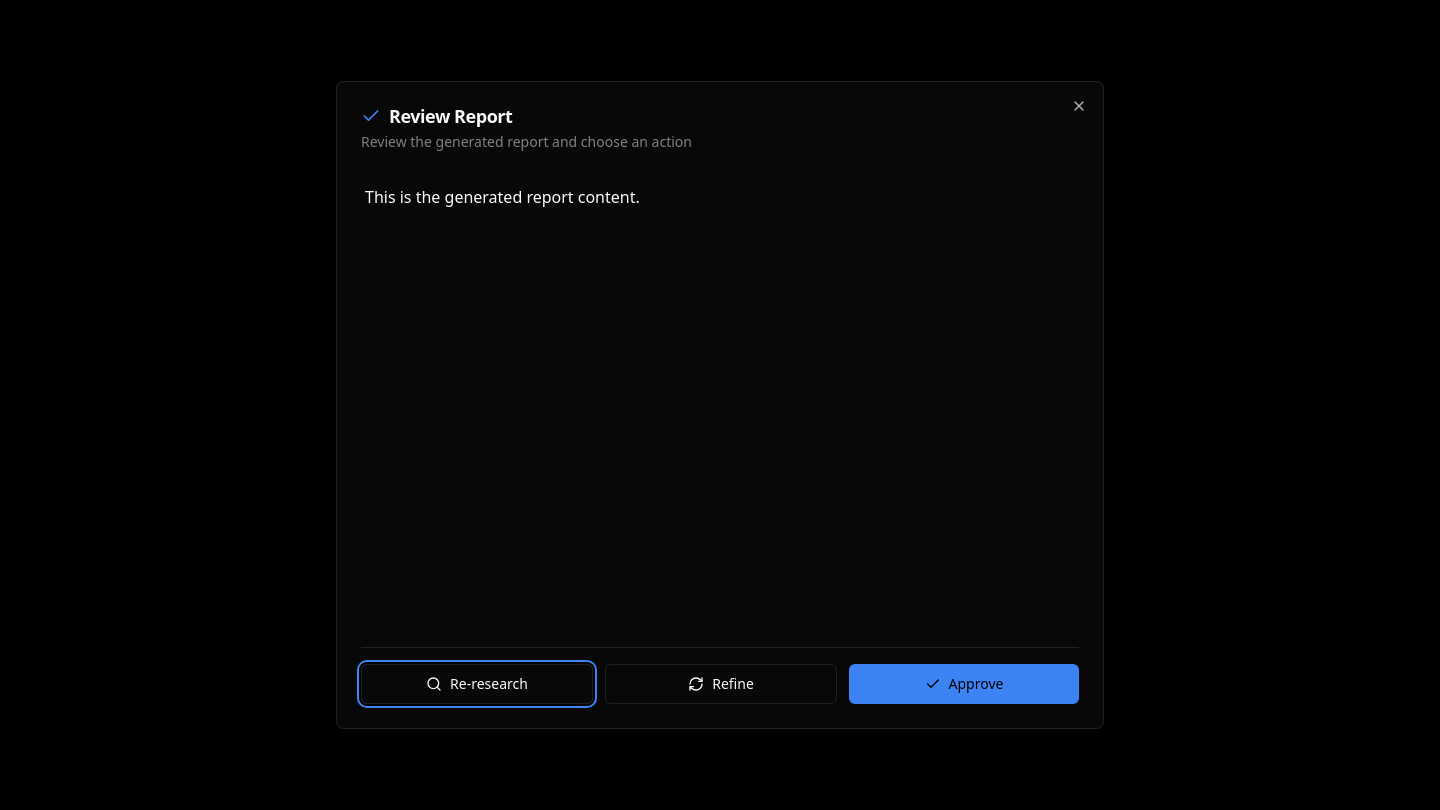
Test: ReviewModal › Refine action › Submit Feedback button is enabled when textarea has content
Click the button "Refine": {"x": 721, "y": 684} [605,664,837,704]
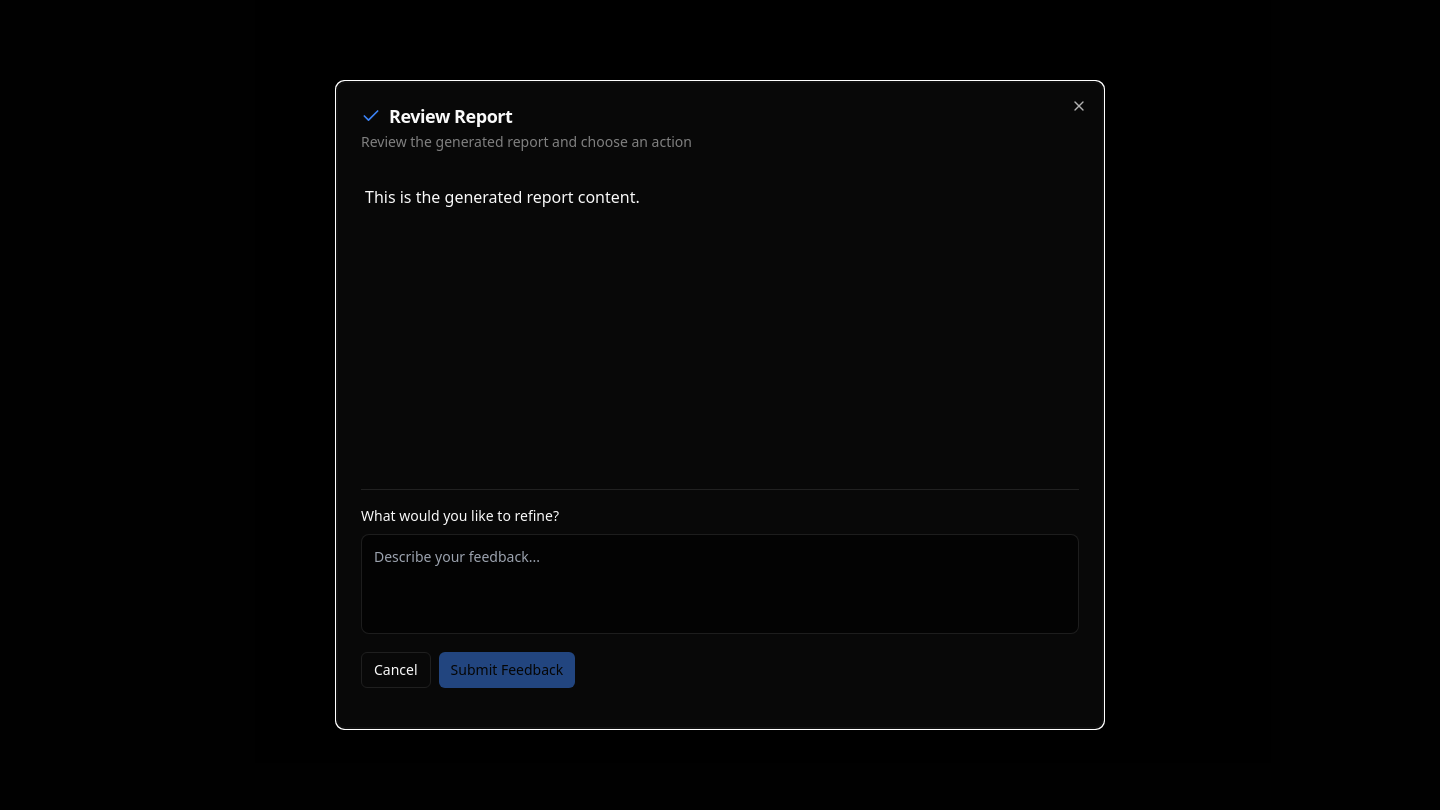
In the text box with placeholder "Describe your feedback...": {"x": 720, "y": 584} [361,534,1079,634], type "Please add more citations"
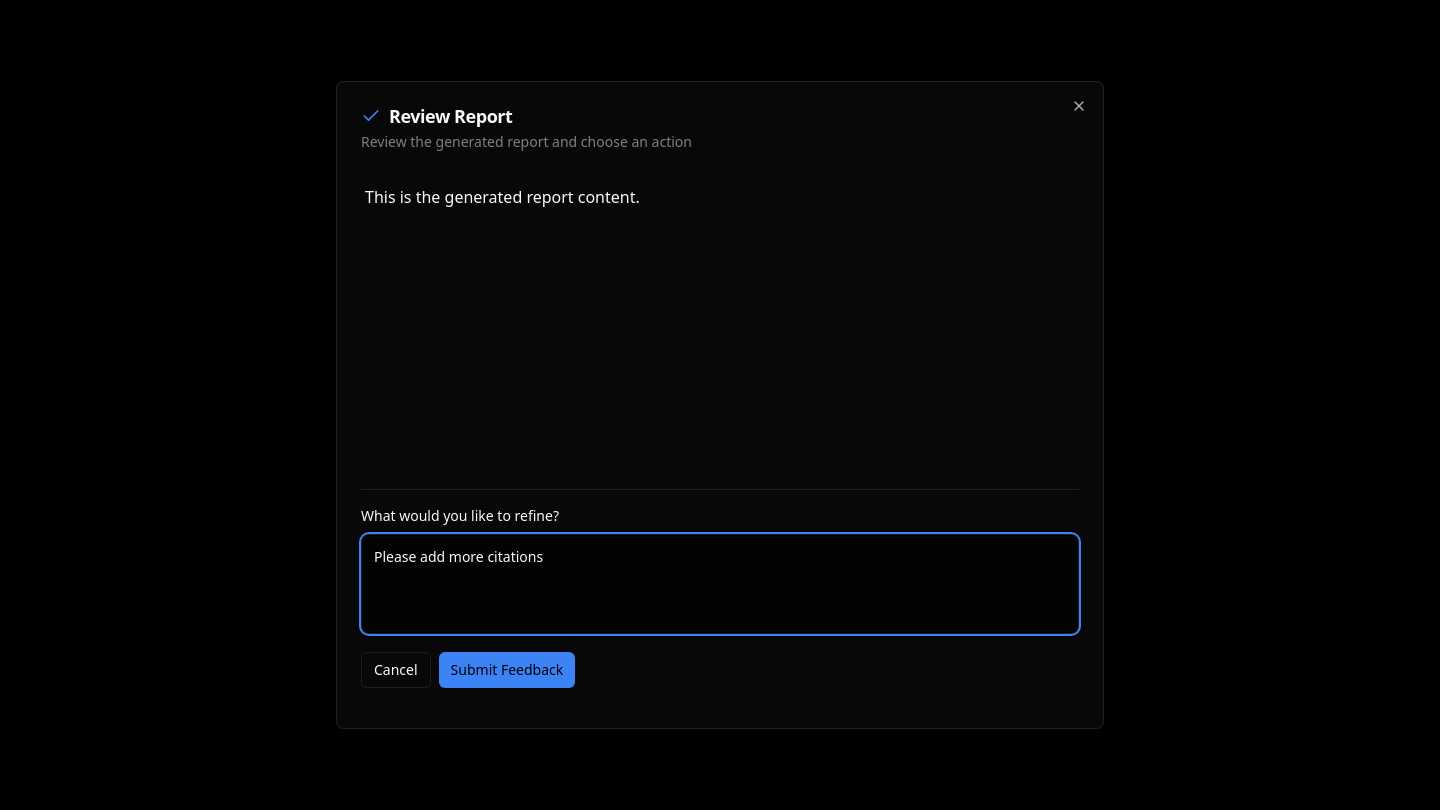
Check: the button "Submit Feedback" is enabled, box [439,652,575,688]
